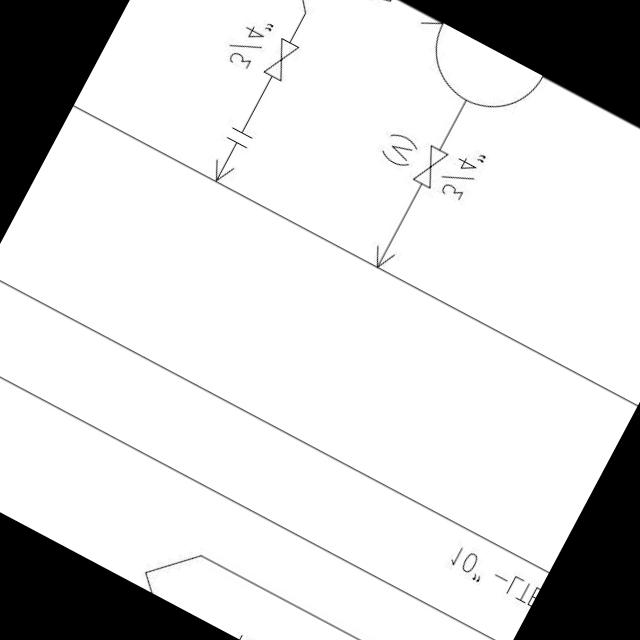GV: (405, 139, 453, 195), (255, 32, 302, 86)
